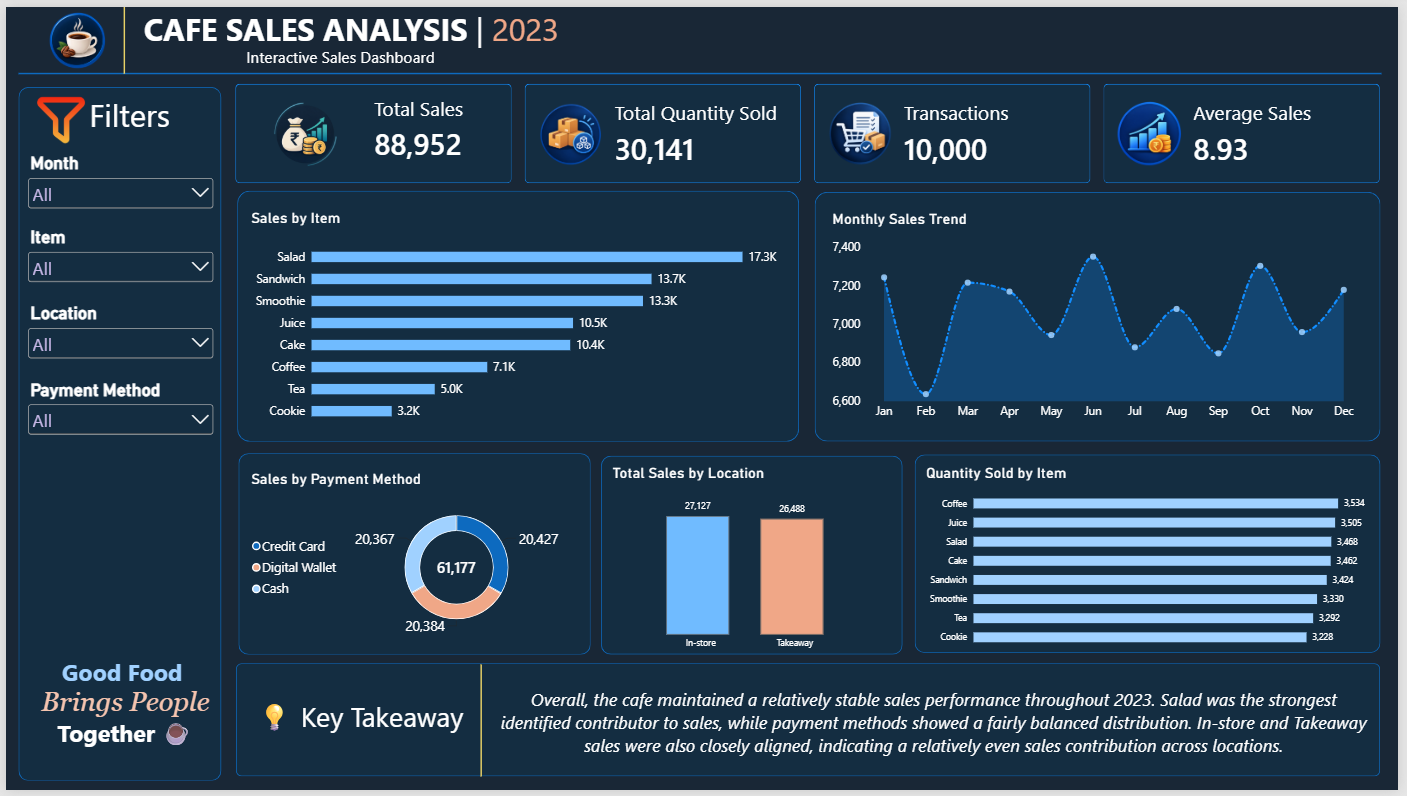

The dashboard page shown, as its layout file describes it:
{"tool":"powerbi","page":{"name":"Dashboard","canvas":[1920,1080],"ordinal":0},"visuals":[{"type":"shape","box":[318.4,254,774.9,346],"z":0},{"type":"shape","box":[18,109.7,279.8,957.1],"z":1000},{"type":"shape","box":[318,906,1578,156],"z":2000},{"type":"slicer","fields":{"Values":["Cafe_Sales_Data.Payment Method"]},"box":[25.8,513.5,265,86.5],"z":3000},{"type":"clusteredBarChart","title":"Sales by Item","fields":{"Category":["Cafe_Sales_Data.Item"],"Y":["KPIs.Total Sales"]},"box":[322.1,263.2,756.4,329.4],"z":4000},{"type":"slicer","fields":{"Values":["Cafe_Sales_Data.Location"]},"box":[25.8,408.6,265,86.5],"z":5000},{"type":"shape","box":[1115.3,255.8,780.4,344.2],"z":6000},{"type":"slicer","fields":{"Values":["Cafe_Sales_Data.Item"]},"box":[25.8,303.7,265,86.5],"z":7000},{"type":"shape","box":[821.3,619.6,416,274.2],"z":8000},{"type":"slicer","fields":{"Values":["Cafe_Sales_Data.Month"]},"box":[25.8,202.5,265,86.5],"z":9000},{"type":"shape","box":[321.1,615.4,485.8,277.9],"z":10000},{"type":"shape","box":[1253.5,617.5,642.2,273.8],"z":11000},{"type":"donutChart","title":" Sales by Payment Method","fields":{"Category":["Cafe_Sales_Data.Payment Method"],"Y":["KPIs.Total Sales"]},"box":[322.1,623.9,471.2,259.5],"z":12000},{"type":"shape","box":[16.6,64.4,1880,56],"z":13000},{"type":"cardVisual","fields":{"Data":["KPIs.Total Sales","KPIs.Total Quantity Sold","KPIs.Number of Transaction","KPIs.Average Sales"]},"box":[314.7,104.9,1581,139.9],"z":14000},{"type":"areaChart","title":"Monthly Sales Trend","fields":{"Category":["Cafe_Sales_Data.Month"],"Y":["KPIs.Total Sales"]},"box":[1123.8,265.5,760.1,323.9],"z":15000},{"type":"clusteredColumnChart","fields":{"Category":["Cafe_Sales_Data.Location"],"Y":["KPIs.Total Sales"]},"box":[821.3,615.4,404.9,290.8],"z":16000},{"type":"clusteredBarChart","title":" Quantity Sold by Item","fields":{"Category":["Cafe_Sales_Data.Item"],"Y":["KPIs.Total Quantity Sold"]},"box":[1253.4,614.7,666.3,277.9],"z":17000},{"type":"textbox","box":[158.3,0,635,64.4],"z":18000},{"type":"textbox","box":[197.6,53.5,526.9,39.1],"z":19000},{"type":"textbox","box":[338.7,953.4,300,55.2],"z":20000},{"type":"shape","box":[638.7,907.4,35,154.6],"z":21000},{"type":"textbox","box":[673.6,938.7,1211,123.3],"z":22000},{"type":"image","box":[0,0,196.9,92],"z":23000},{"type":"shape","box":[145.4,0,36.8,92],"z":24000},{"type":"textbox","box":[26.8,895.4,265.5,156.4],"z":25000},{"type":"image","box":[26.8,109.1,96.7,92.6],"z":26000},{"type":"textbox","box":[98.8,119.4,144.1,74.1],"z":27000}]}

Visuals, with their boxes in screenshot pixels (x1, y1, x2, y2), scaled from the page's 1920x1080 canvas onto the 1407x796 screenshot:
shape: 233,187,801,442
shape: 13,81,218,786
shape: 233,668,1389,783
slicer - Cafe_Sales_Data.Payment Method: 19,378,213,442
"Sales by Item" clusteredBarChart: 236,194,790,437
slicer - Cafe_Sales_Data.Location: 19,301,213,365
shape: 817,189,1389,442
slicer - Cafe_Sales_Data.Item: 19,224,213,288
shape: 602,457,907,659
slicer - Cafe_Sales_Data.Month: 19,149,213,213
shape: 235,454,591,658
shape: 919,455,1389,657
" Sales by Payment Method" donutChart: 236,460,581,651
shape: 12,47,1390,89
cardVisual - KPIs.Total Sales x KPIs.Total Quantity Sold: 231,77,1389,180
"Monthly Sales Trend" areaChart: 824,196,1381,434
clusteredColumnChart - Cafe_Sales_Data.Location x KPIs.Total Sales: 602,454,899,668
" Quantity Sold by Item" clusteredBarChart: 919,453,1406,658
textbox: 116,0,581,47
textbox: 145,39,531,68
textbox: 248,703,468,743
shape: 468,669,494,783
textbox: 494,692,1381,783
image: 0,0,144,68
shape: 107,0,134,68
textbox: 20,660,214,775
image: 20,80,91,149
textbox: 72,88,178,143
